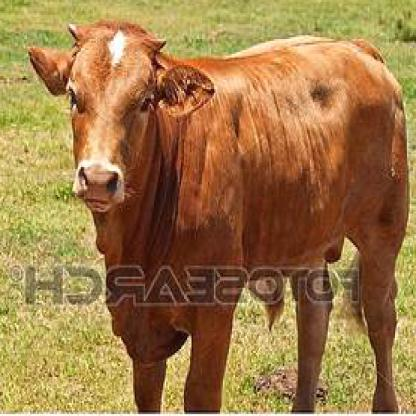cow: (27, 17, 410, 414)
